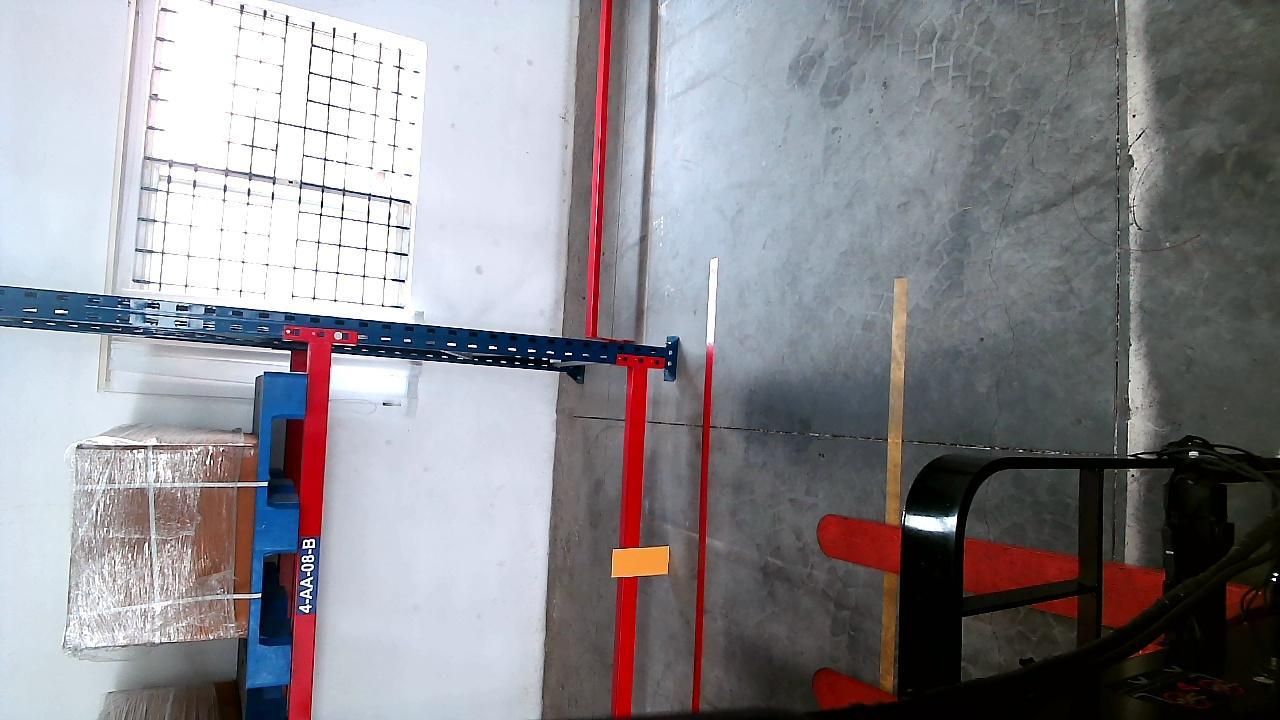red_line: (692, 260, 720, 713)
yellow_line: (879, 271, 908, 696)
